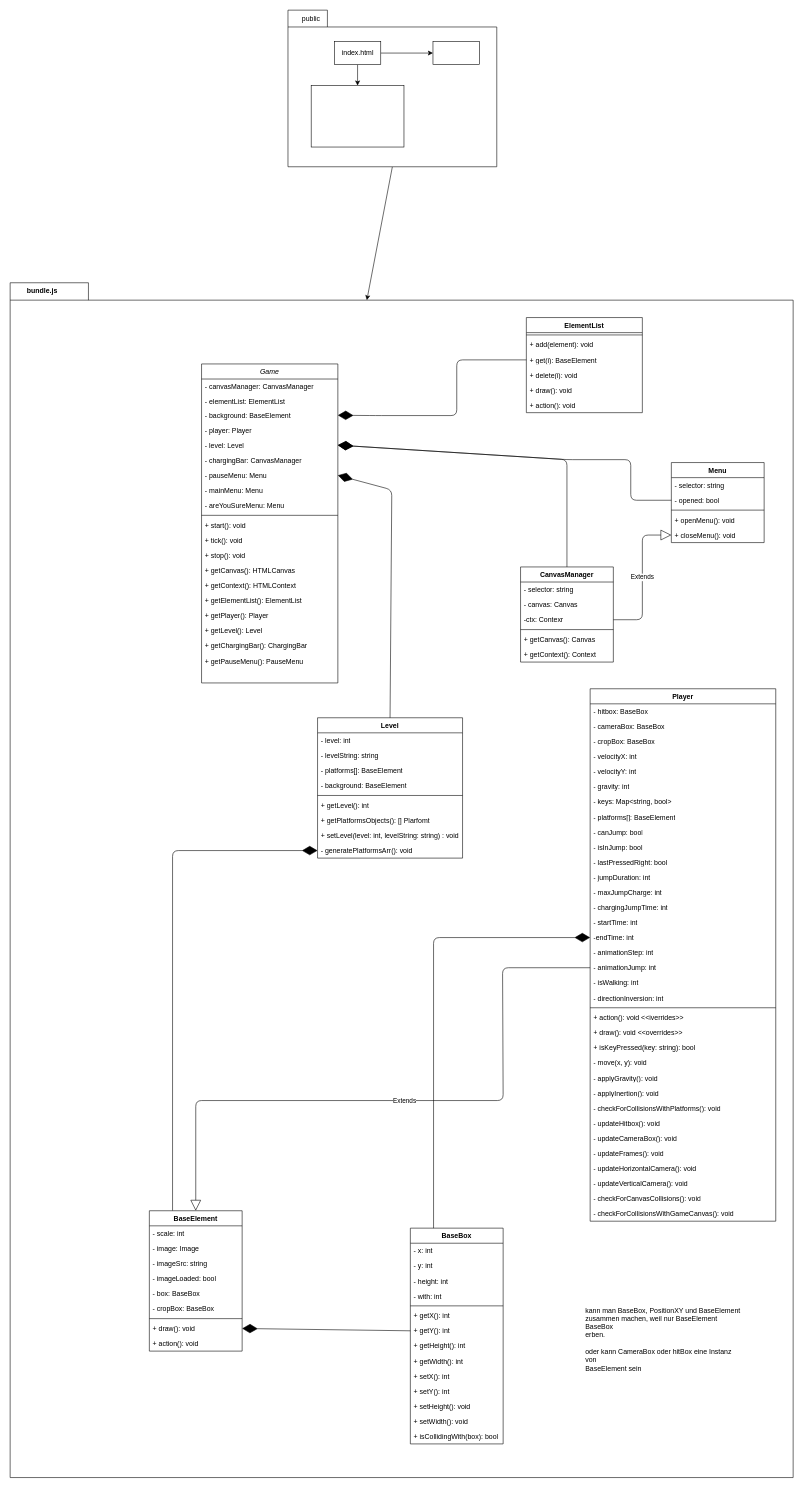
Image size: 803x1488. Some labels were removed from this diagram. Each missing label, with the centre of its shape:
main + game + mainMenu + startGame(): point 357,116
style.css: point 455,53
